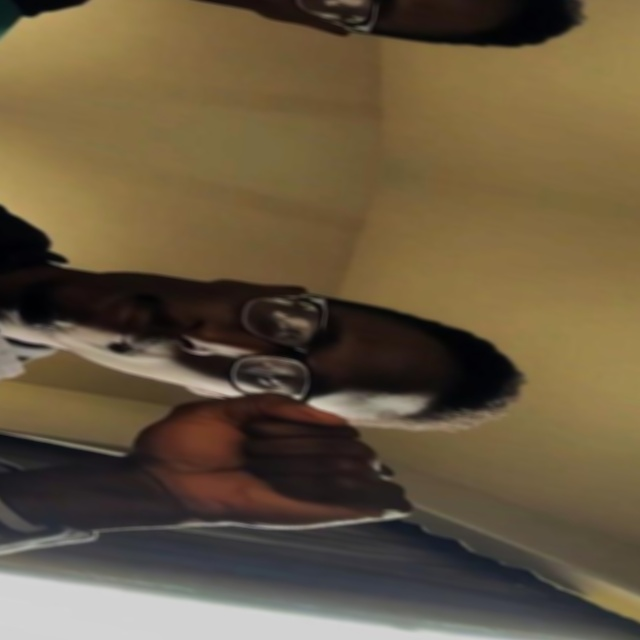Rock: (124, 370, 427, 557)
